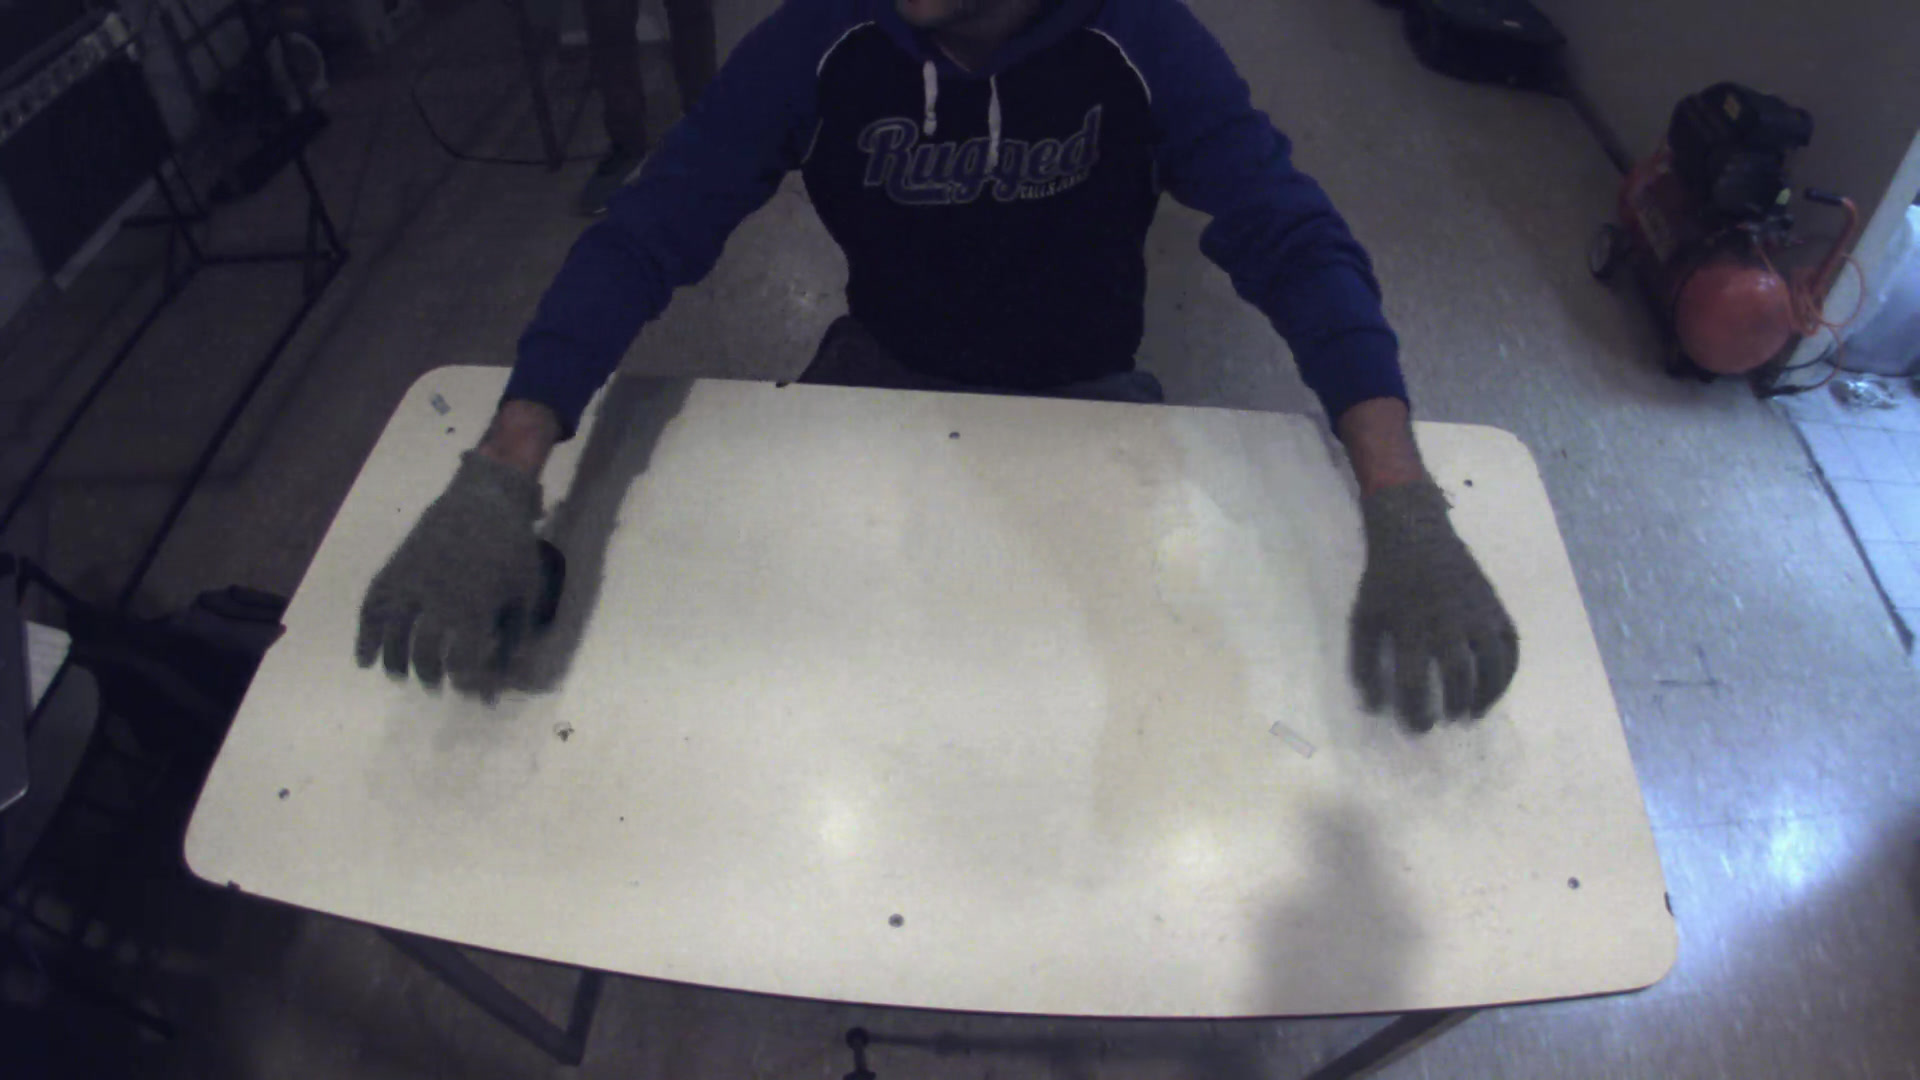hand: (342, 439, 550, 698), (1342, 462, 1528, 738)
